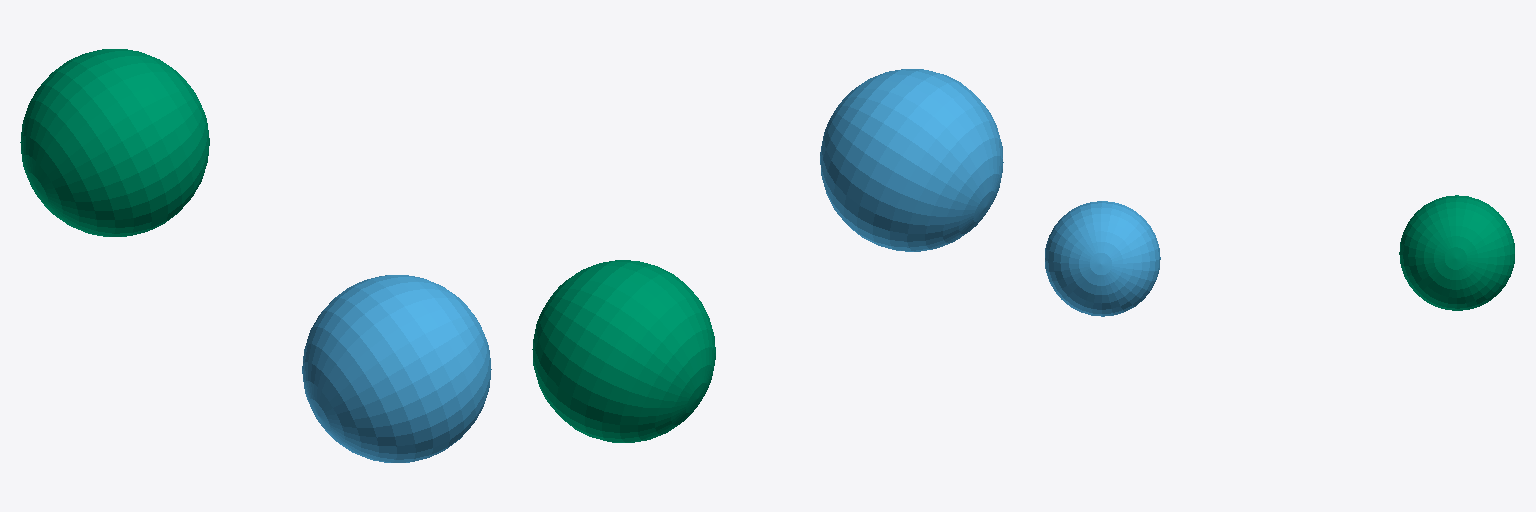
URDF robot description (panda):
<?xml version="1.0" encoding="utf-8"?>
<!-- =================================================================================== -->
<!-- |    This document was autogenerated by xacro from ../../../franka_panda_description/robots/panda_arm.urdf.xacro | -->
<!-- |    EDITING THIS FILE BY HAND IS NOT RECOMMENDED                                 | -->
<!-- =================================================================================== -->
<robot name="panda">
  <material name="panda_white">
    <color rgba="1 1 1 1"/>
  </material>
  <material name="panda_gray">
    <color rgba="0.4 0.4 0.4 1"/>
  </material>
  <material name="silver">
    <color rgba="0.5 0.5 0.5 1"/>
  </material>
  <link name="panda_link0">
    <visual>
      <geometry>
        <mesh filename="meshes/visual/link0.dae"/>
      </geometry>
      <material name="panda_gray"/>
    </visual>
    <collision>
      <geometry>
        <mesh filename="meshes/collision/link0.obj"/>
      </geometry>
    </collision>
  </link>
  <link name="panda_link1">
    <visual>
      <geometry>
        <mesh filename="meshes/visual/link1.dae"/>
      </geometry>
      <material name="panda_white"/>
    </visual>
    <collision>
      <geometry>
        <mesh filename="meshes/collision/link1.obj"/>
      </geometry>
    </collision>
    <inertial>
      <origin rpy="0 0 0" xyz="3.875e-03 2.081e-03 -0.1750"/>
      <mass value="4.970684"/>
      <inertia ixx="7.0337e-01" ixy="-1.3900e-04" ixz="6.7720e-03" iyy="7.0661e-01" iyz="1.9169e-02" izz="9.1170e-03"/>
    </inertial>
  </link>
  <joint name="panda_joint1" type="revolute">
    <safety_controller k_position="100.0" k_velocity="40.0" soft_lower_limit="-2.8973" soft_upper_limit="2.8973"/>
    <origin rpy="0 0 0" xyz="0 0 0.333"/>
    <parent link="panda_link0"/>
    <child link="panda_link1"/>
    <axis xyz="0 0 1"/>
    <limit effort="87" lower="-2.8973" upper="2.8973" velocity="2.1750"/>
    <dynamics damping="10.0" friction="5.0"/>
  </joint>
  <link name="panda_link2">
    <visual>
      <geometry>
        <mesh filename="meshes/visual/link2.dae"/>
      </geometry>
      <material name="panda_white"/>
    </visual>
    <collision>
      <geometry>
        <mesh filename="meshes/collision/link2.obj"/>
      </geometry>
    </collision>
    <inertial>
      <origin rpy="0 0 0" xyz="-3.141e-03 -2.872e-02 3.495e-03"/>
      <mass value="0.646926"/>
      <inertia ixx="7.9620e-03" ixy="-3.9250e-03" ixz="1.0254e-02" iyy="2.8110e-02" iyz="7.0400e-04" izz="2.5995e-02"/>
    </inertial>
  </link>
  <joint name="panda_joint2" type="revolute">
    <safety_controller k_position="100.0" k_velocity="40.0" soft_lower_limit="-1.7628" soft_upper_limit="1.7628"/>
    <origin rpy="-1.57079632679 0 0" xyz="0 0 0"/>
    <parent link="panda_link1"/>
    <child link="panda_link2"/>
    <axis xyz="0 0 1"/>
    <limit effort="87" lower="-1.7628" upper="1.7628" velocity="2.1750"/>
    <dynamics damping="5.0" friction="2.0"/>
  </joint>
  <link name="panda_link3">
    <visual>
      <geometry>
        <mesh filename="meshes/visual/link3.dae"/>
      </geometry>
      <material name="panda_white"/>
    </visual>
    <collision>
      <geometry>
        <mesh filename="meshes/collision/link3.obj"/>
      </geometry>
    </collision>
    <inertial>
      <origin rpy="0 0 0" xyz="2.7518e-02 3.9252e-02 -6.6502e-02"/>
      <mass value="3.228604"/>
      <inertia ixx="3.7242e-02" ixy="-4.7610e-03" ixz="-1.1396e-02" iyy="3.6155e-02" iyz="-1.2805e-02" izz="1.0830e-02"/>
    </inertial>
  </link>
  <joint name="panda_joint3" type="revolute">
    <safety_controller k_position="100.0" k_velocity="40.0" soft_lower_limit="-2.8973" soft_upper_limit="2.8973"/>
    <origin rpy="1.57079632679 0 0" xyz="0 -0.316 0"/>
    <parent link="panda_link2"/>
    <child link="panda_link3"/>
    <axis xyz="0 0 1"/>
    <limit effort="87" lower="-2.8973" upper="2.8973" velocity="2.1750"/>
    <dynamics damping="5.0" friction="2.0"/>
  </joint>
  <link name="panda_link4">
    <visual>
      <geometry>
        <mesh filename="meshes/visual/link4.dae"/>
      </geometry>
      <material name="panda_white"/>
    </visual>
    <collision>
      <geometry>
        <mesh filename="meshes/collision/link4.obj"/>
      </geometry>
    </collision>
    <inertial>
      <origin rpy="0 0 0" xyz="-5.317e-02 1.04419e-01 2.7454e-02"/>
      <mass value="3.587895"/>
      <inertia ixx="2.5853e-02" ixy="7.7960e-03" ixz="-1.3320e-03" iyy="1.9552e-02" iyz="8.6410e-03" izz="2.8323e-02"/>
    </inertial>
  </link>
  <joint name="panda_joint4" type="revolute">
    <safety_controller k_position="100.0" k_velocity="40.0" soft_lower_limit="-3.0718" soft_upper_limit="-0.0698"/>
    <origin rpy="1.57079632679 0 0" xyz="0.0825 0 0"/>
    <parent link="panda_link3"/>
    <child link="panda_link4"/>
    <axis xyz="0 0 1"/>
    <limit effort="87" lower="-3.0718" upper="-0.0698" velocity="2.1750"/>
    <dynamics damping="1.0" friction="0.5"/>
  </joint>
  <link name="panda_link5">
    <visual>
      <geometry>
        <mesh filename="meshes/visual/link5.dae"/>
      </geometry>
      <material name="panda_white"/>
    </visual>
    <collision>
      <geometry>
        <mesh filename="meshes/collision/link5.obj"/>
      </geometry>
    </collision>
    <inertial>
      <origin rpy="0 0 0" xyz="-1.1953e-02 4.1065e-02 -3.8437e-02"/>
      <mass value="1.225946"/>
      <inertia ixx="3.5549e-02" ixy="-2.1170e-03" ixz="-4.0370e-03" iyy="2.9474e-02" iyz="2.2900e-04" izz="8.6270e-03"/>
    </inertial>
  </link>
  <joint name="panda_joint5" type="revolute">
    <safety_controller k_position="100.0" k_velocity="40.0" soft_lower_limit="-2.8973" soft_upper_limit="2.8973"/>
    <origin rpy="-1.57079632679 0 0" xyz="-0.0825 0.384 0"/>
    <parent link="panda_link4"/>
    <child link="panda_link5"/>
    <axis xyz="0 0 1"/>
    <limit effort="12" lower="-2.8973" upper="2.8973" velocity="2.6100"/>
    <dynamics damping="2.0" friction="1.0"/>
  </joint>
  <link name="panda_link6">
    <visual>
      <geometry>
        <mesh filename="meshes/visual/link6.dae"/>
      </geometry>
      <material name="panda_white"/>
    </visual>
    <collision>
      <geometry>
        <mesh filename="meshes/collision/link6.obj"/>
      </geometry>
    </collision>
    <inertial>
      <origin rpy="0 0 0" xyz="6.0149e-02 -1.4117e-02 -1.0517e-02"/>
      <mass value="1.666555"/>
      <inertia ixx="1.9640e-03" ixy="1.0900e-04" ixz="-1.1580e-03" iyy="4.3540e-03" iyz="3.4100e-04" izz="5.4330e-03"/>
    </inertial>
  </link>
  <joint name="panda_joint6" type="revolute">
    <safety_controller k_position="100.0" k_velocity="40.0" soft_lower_limit="-0.0175" soft_upper_limit="3.7525"/>
    <origin rpy="1.57079632679 0 0" xyz="0 0 0"/>
    <parent link="panda_link5"/>
    <child link="panda_link6"/>
    <axis xyz="0 0 1"/>
    <limit effort="12" lower="-0.0175" upper="3.7525" velocity="2.6100"/>
    <dynamics damping="1.0" friction="0.5"/>
  </joint>
  <link name="panda_link7">
    <visual>
      <geometry>
        <mesh filename="meshes/visual/link7.dae"/>
      </geometry>
      <material name="panda_gray"/>
    </visual>
    <collision>
      <geometry>
        <mesh filename="meshes/collision/link7.obj"/>
      </geometry>
    </collision>
    <inertial>
      <origin rpy="0 0 0" xyz="1.0517e-02 -4.252e-03 6.1597e-02"/>
      <mass value="7.35522e-01"/>
      <inertia ixx="1.2516e-02" ixy="-4.2800e-04" ixz="-1.1960e-03" iyy="1.0027e-02" iyz="-7.4100e-04" izz="4.8150e-03"/>
    </inertial>
  </link>
  <joint name="panda_joint7" type="revolute">
    <safety_controller k_position="100.0" k_velocity="40.0" soft_lower_limit="-2.8973" soft_upper_limit="2.8973"/>
    <origin rpy="1.57079632679 0 0" xyz="0.088 0 0"/>
    <parent link="panda_link6"/>
    <child link="panda_link7"/>
    <axis xyz="0 0 1"/>
    <limit effort="12" lower="-2.8973" upper="2.8973" velocity="2.6100"/>
    <dynamics damping="1.0" friction="0.5"/>
  </joint>
  <link name="panda_link8">
    <inertial>
      <origin rpy="0 0 0" xyz="0 0 0"/>
      <mass value="0.0"/>
      <inertia ixx="0.001" ixy="0.0" ixz="0.0" iyy="0.001" iyz="0.0" izz="0.001"/>
    </inertial>
  </link>
  <joint name="panda_joint8" type="fixed">
    <origin rpy="0 0 0" xyz="0 0 0.107"/>
    <parent link="panda_link7"/>
    <child link="panda_link8"/>
    <axis xyz="0 0 0"/>
  </joint>

  <joint name="zedm_left_cam_joint" type="fixed">
    <parent link="panda_link8"/>
    <child link="zedm_left_cam_link"/>
    <origin rpy="-0.342566 0.021616 -1.587466" xyz="-0.07496436 0.033756 0.013520484"/>
  </joint>
  <joint name="zedm_right_cam_joint" type="fixed">
    <parent link="panda_link8"/>
    <child link="zedm_right_cam_link"/>
    <origin rpy="-0.342566 0.021616 -1.587466" xyz="-0.076442 -0.027301 0.0126272"/>
  </joint>
<link name="zedm_left_cam_link">
  <visual>
    <origin rpy="0 0 0" xyz="0.0 0 0.0"/>
    <geometry>
      <sphere radius="0.01"/>
    </geometry>
  </visual>
</link>
  <link name="zedm_right_cam_link">
    <visual>
      <origin rpy="0 0 0" xyz="0.0 0 0.0"/>
      <geometry>
        <sphere radius="0.01"/>
      </geometry>
    </visual>
  </link>
  <link name="fake_hand">
    <inertial>
      <origin rpy="0 0 0" xyz="0 0 0"/>
      <mass value="0.0"/>
      <inertia ixx="0.001" ixy="0.0" ixz="0.0" iyy="0.001" iyz="0.0" izz="0.001"/>
    </inertial>
    <collision>
        <origin rpy="0 0 0" xyz="0.0 0 0.0"/>
        <geometry>
          <sphere radius="0.08"/>
        </geometry>
    </collision>
  </link>
  <joint name="fake_hand" type="fixed">
    <parent link="panda_link8"/>
    <child link="fake_hand"/>
    <origin rpy="0 0 0" xyz="0 0 0.14"/>
  </joint>
</robot>

--- Render facts (derived) ---
3 views of the same robot in one strip: view 1: azimuth 30°, elevation 25°; view 2: azimuth 150°, elevation 25°; view 3: azimuth 270°, elevation 25° (orthographic).
Model panda with 12 links and 11 joints (7 revolute, 4 fixed), rooted at panda_link0, posed joints at zero except 1 at the middle of their limits (panda_joint4 = -1.57).
Visible links, largest first — view 1: zedm_left_cam_link, zedm_right_cam_link; view 2: zedm_left_cam_link, zedm_right_cam_link; view 3: zedm_left_cam_link, zedm_right_cam_link.
Link boxes in pixels (left/top/right/bottom): zedm_left_cam_link: left=302, top=275, right=491, bottom=462; zedm_right_cam_link: left=20, top=49, right=209, bottom=236; zedm_left_cam_link: left=820, top=69, right=1003, bottom=251; zedm_right_cam_link: left=532, top=260, right=715, bottom=442; zedm_left_cam_link: left=1045, top=201, right=1160, bottom=316; zedm_right_cam_link: left=1399, top=195, right=1514, bottom=310.
Size in the robot's own frame: 0.0209 by 0.081 by 0.0214 metres.
Meshes: 8 distinct files referenced, 0 mesh visuals loaded (none loaded); not drawn: 8 (reference not matched to a file when rendering).